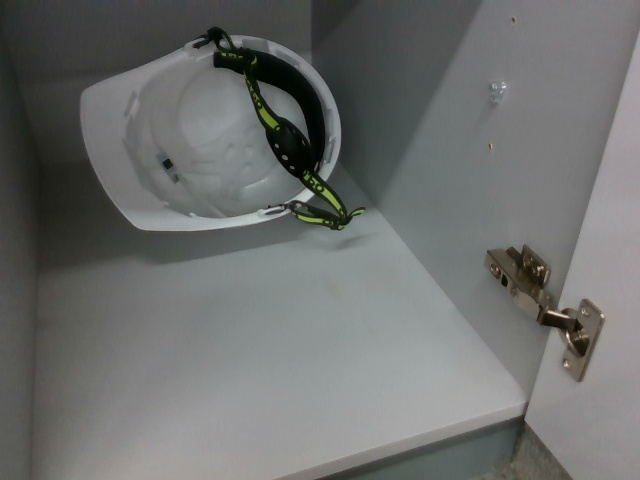helmet: (72, 25, 345, 242)
